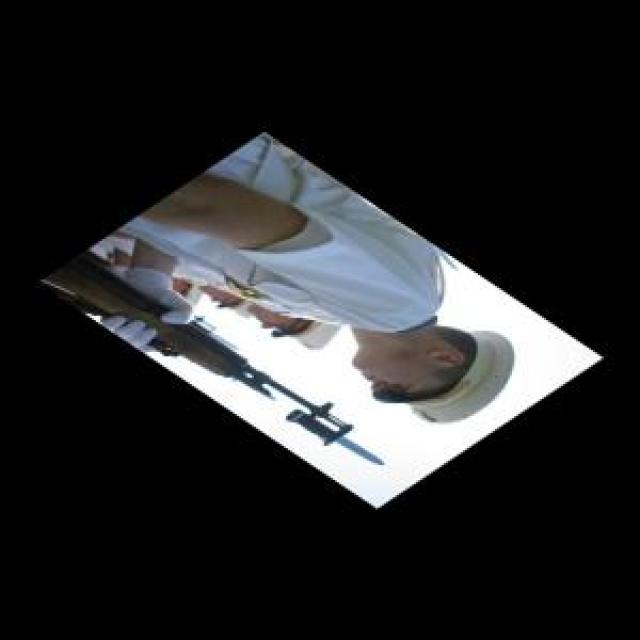knife: (280, 410, 394, 469)
